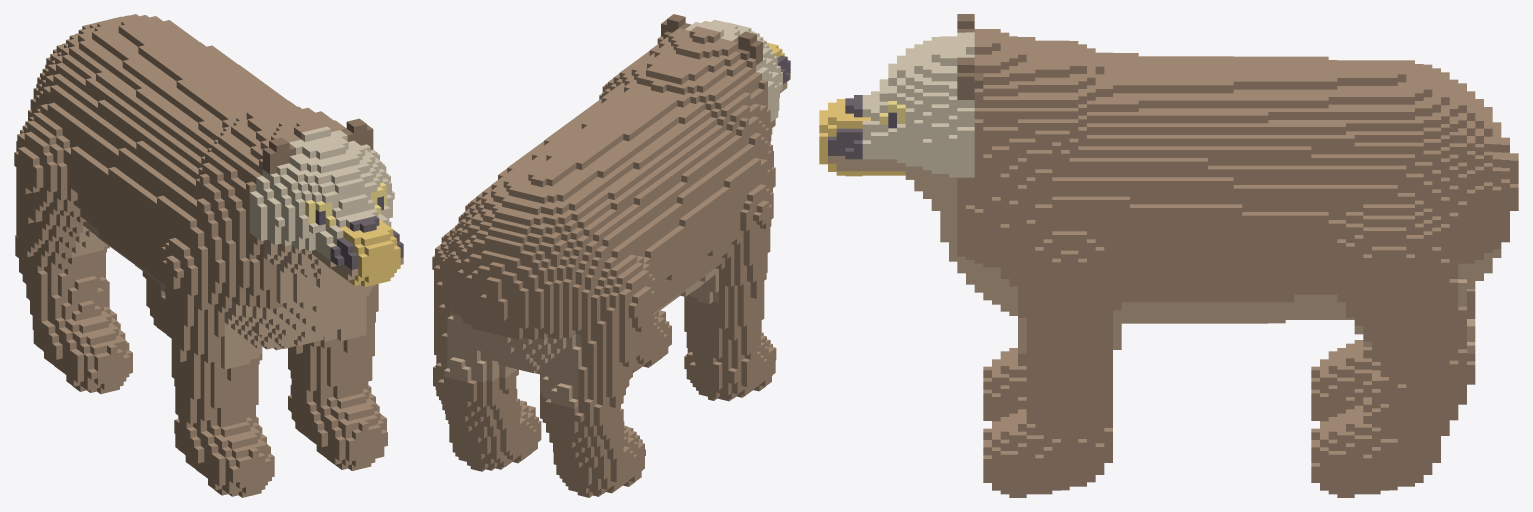
Rendered from owlbear.glb.
The picture shows the model from 3 angles, left to right: view 1: azimuth 30°, elevation 25°; view 2: azimuth 150°, elevation 25°; view 3: azimuth 270°, elevation 25°; orthographic projection. The views are drawn at different scales.
Visible parts, largest first — view 1: item; view 2: item; view 3: item.
Part boxes in pixels (box(x1,y1,x2,y2)): item: box(14, 14, 403, 497); item: box(432, 14, 790, 497); item: box(819, 14, 1518, 497).
Size of the model in its own units: 34 by 53 by 81.
